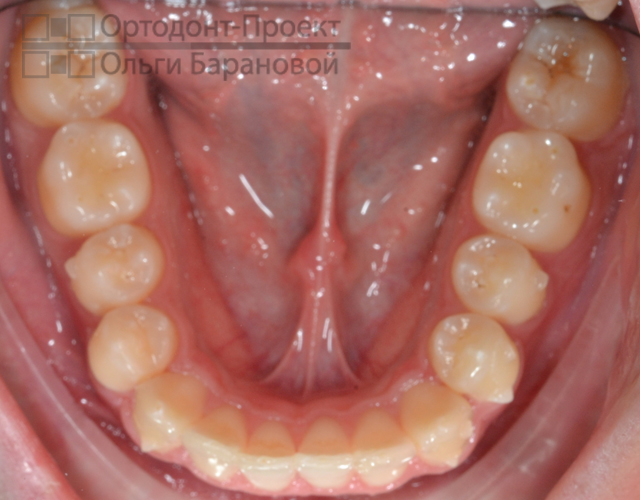LL1BC_healthy: (431, 319, 519, 402)
LL1M_healthy: (482, 132, 591, 244)
LL2BC_healthy: (451, 237, 551, 319)
LL2M_decay: (513, 23, 625, 130)
LLCI_healthy: (300, 419, 353, 487)
LLC_healthy: (402, 382, 471, 461)
LLLI_healthy: (355, 409, 417, 483)
LR1BC_healthy: (91, 306, 177, 387)
LR1M_healthy: (44, 122, 154, 226)
LR2BC_healthy: (67, 228, 165, 304)
LR2M_decay: (20, 15, 125, 115)
LRCI_healthy: (246, 420, 300, 489)
LRC_healthy: (130, 376, 199, 452)
LRLI_healthy: (192, 401, 244, 478)
